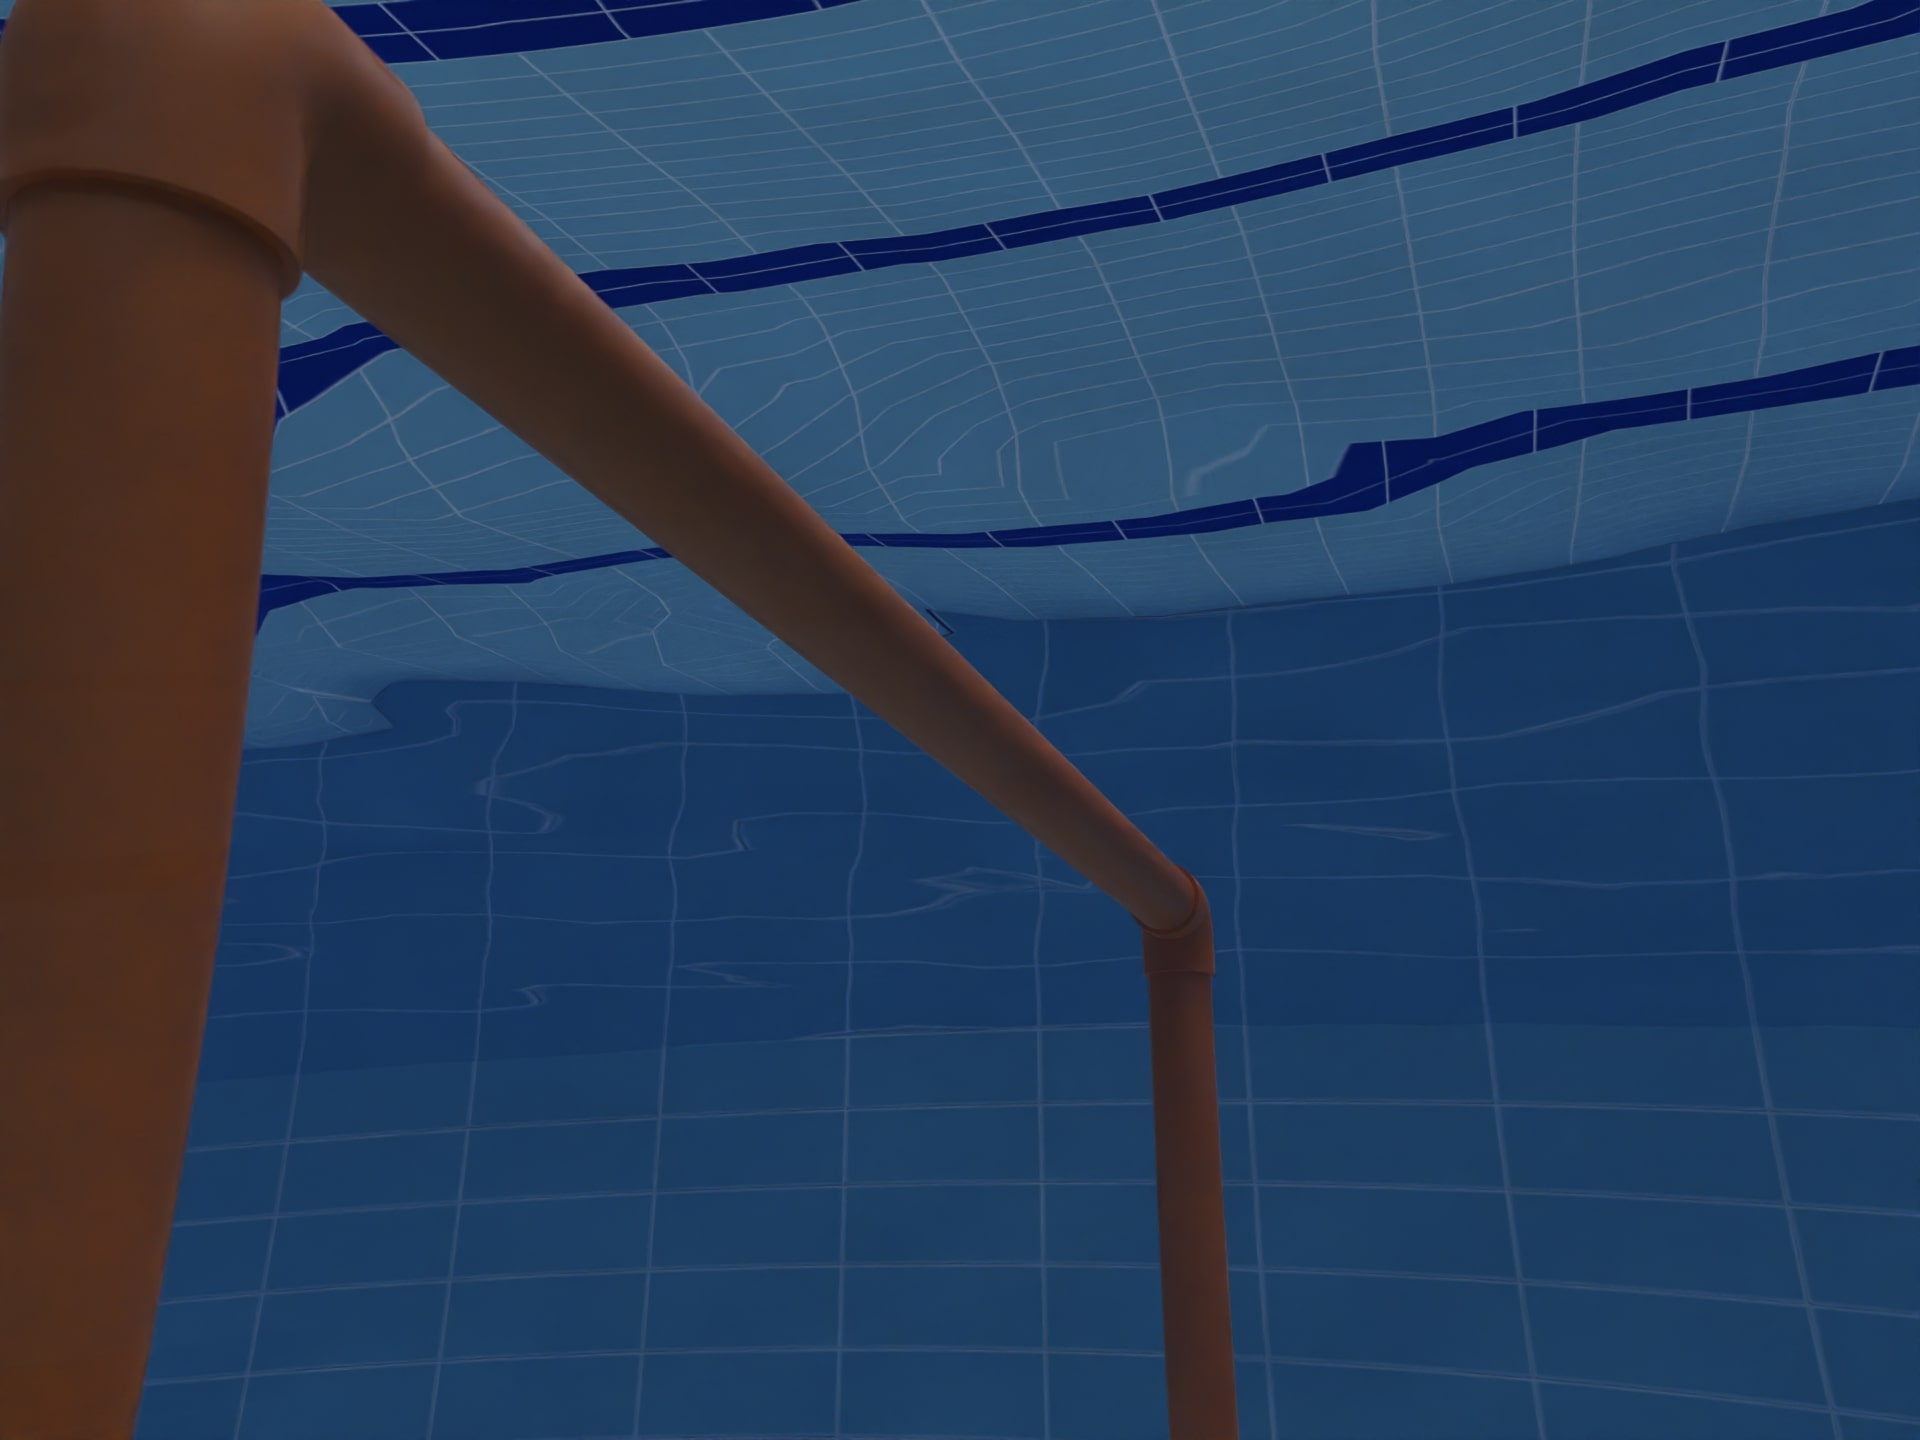gate: (5, 2, 1252, 1440)
